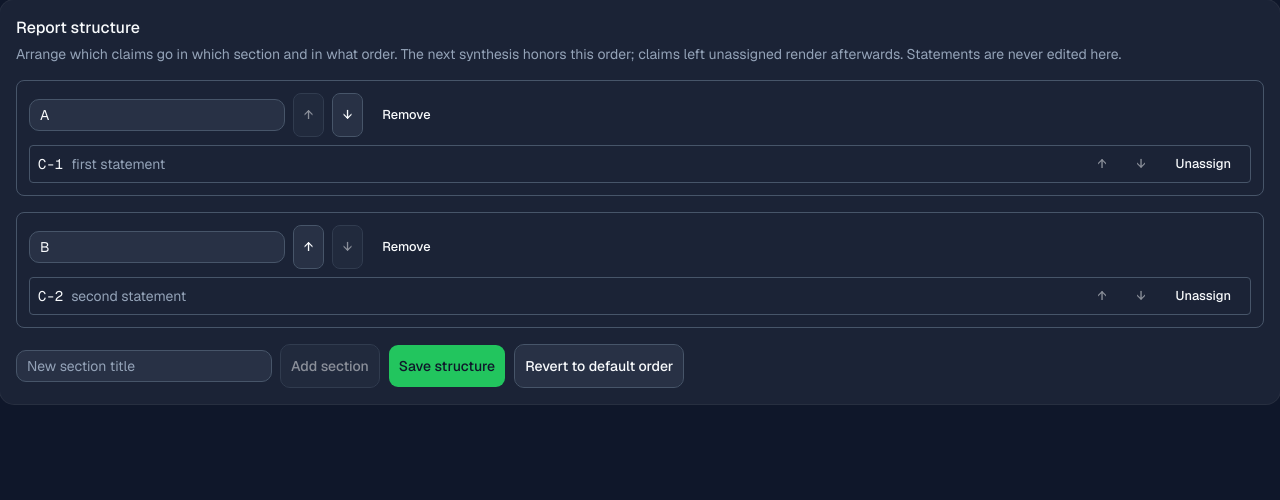
Test case: StructureEditor › moves sections and unassigns claims
Expected: the text "first statement" is shown, [71,155,165,173]
What coordinates should you click on to do the following:
click the button named "Move section A down"
I would click on:
 (348, 115)
Its box is [332,93,363,137].
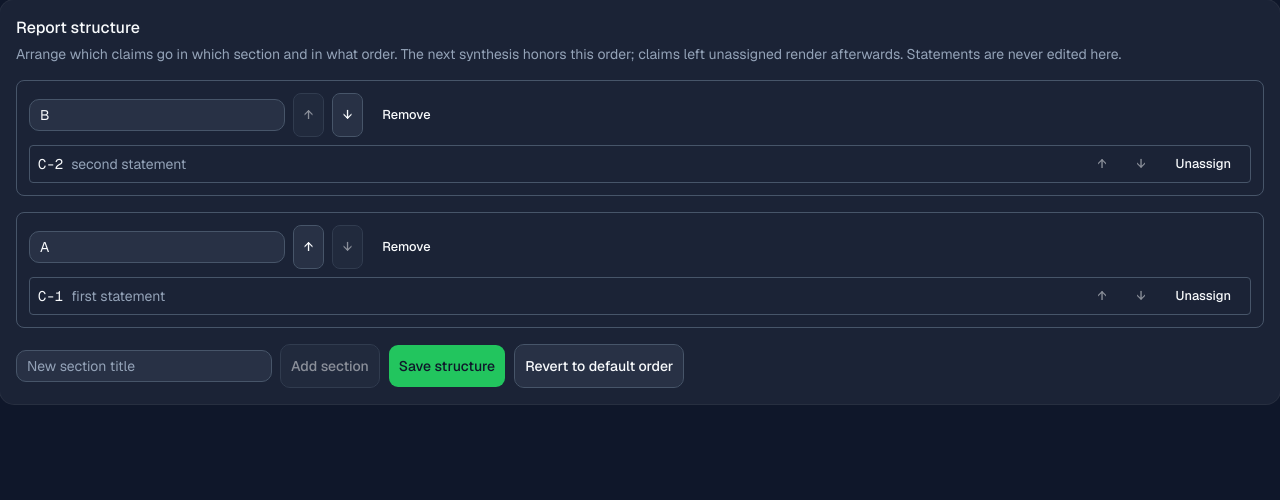
What coordinates should you click on to do the following:
click the button with aria-label "Unassign C-2 from B"
I would click on:
 (1203, 164)
Its box is [1165,150,1242,178].
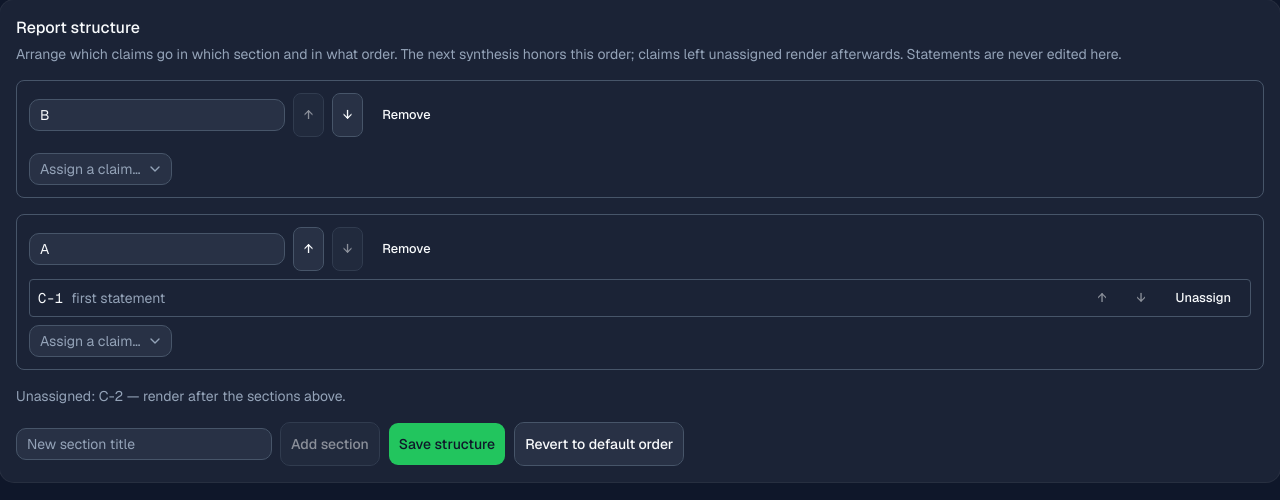
What coordinates should you click on to do the following:
click the button "Save structure"
I would click on:
 (447, 444)
Its box is [388,422,506,466].
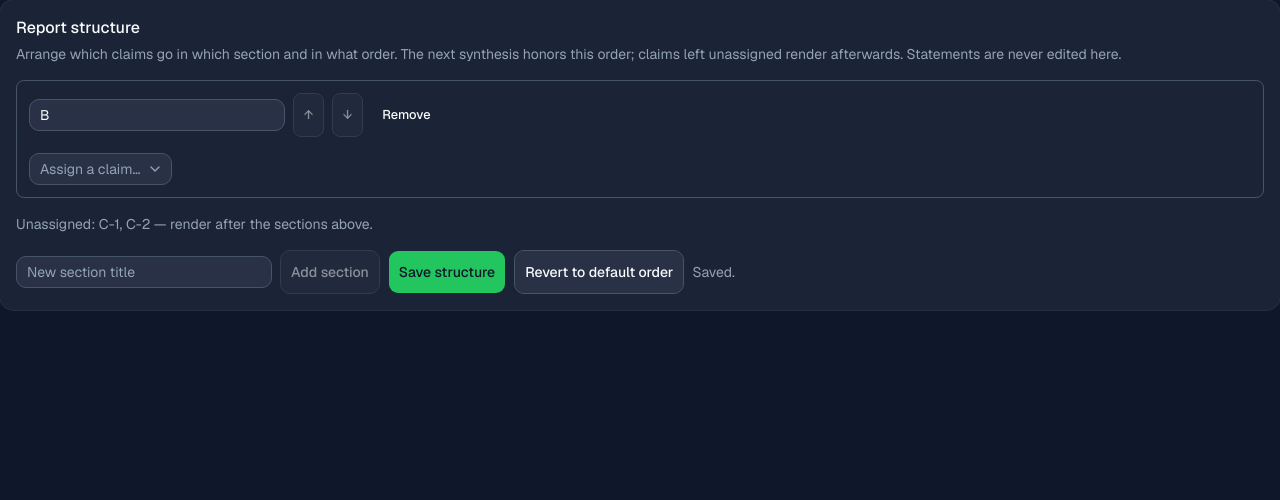
Expected: the text "Saved." is shown, [692,262,735,282]
